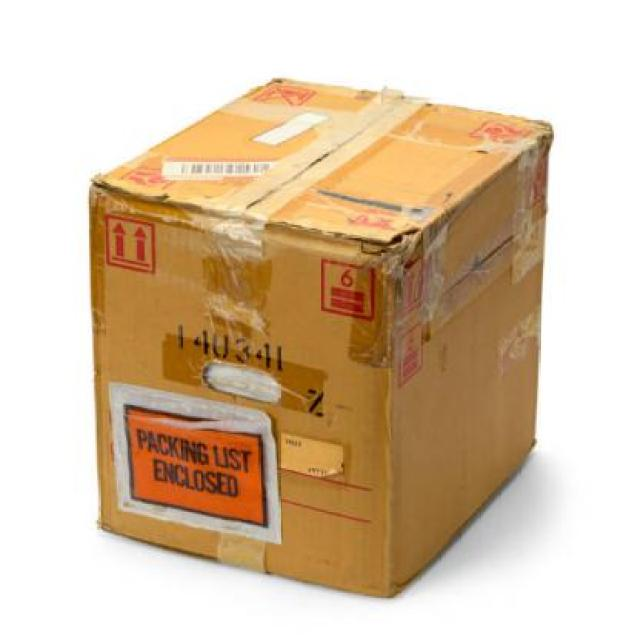box: (50, 40, 564, 640)
